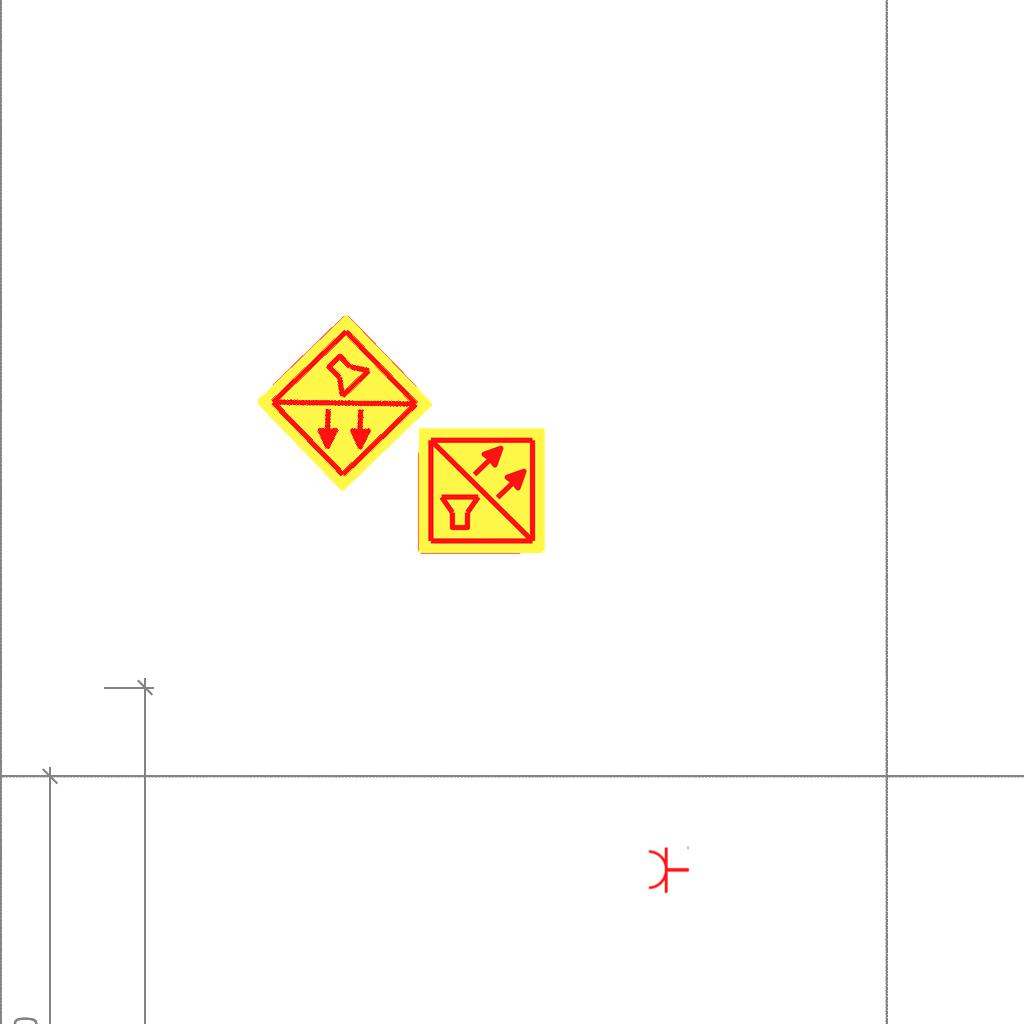OKW_Multisensormelder_(Kombination_optischer_Rauch-Kahlenmonoxid_Waerme-Melder): (250, 309, 438, 497), (416, 425, 548, 557)
Schukosteckdose_einfach: (647, 844, 690, 894)
